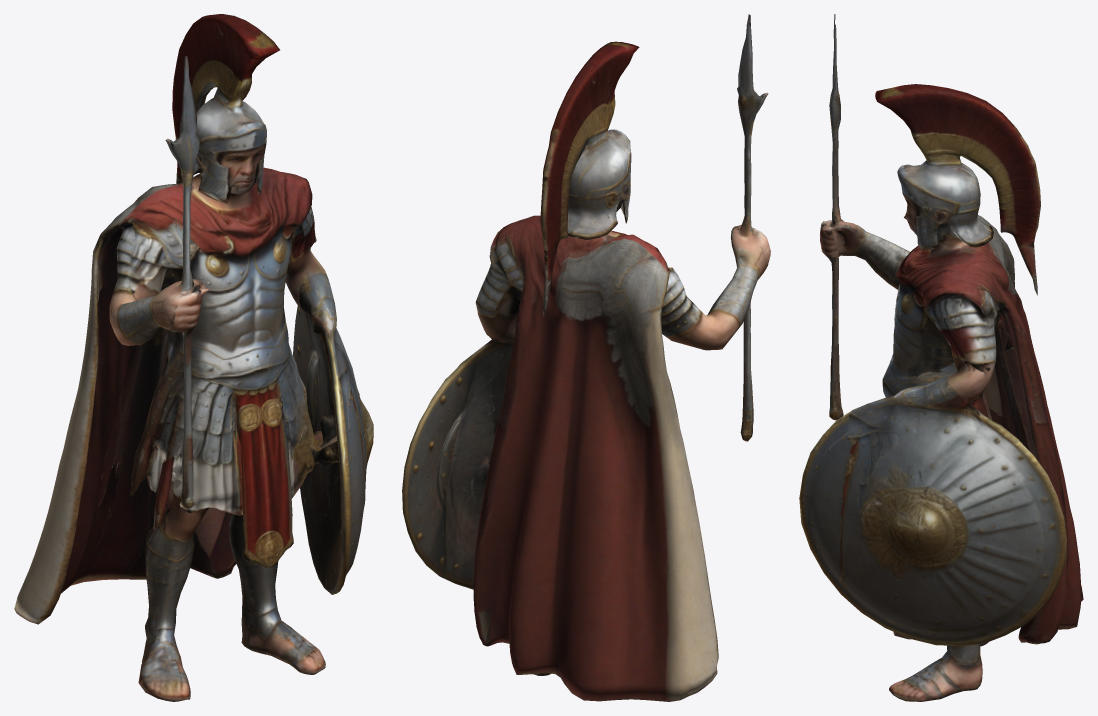
File: centurion.glb
The picture shows the model from 3 angles, left to right: view 1: azimuth 30°, elevation 25°; view 2: azimuth 150°, elevation 25°; view 3: azimuth 270°, elevation 25°; orthographic projection. The views are drawn at different scales.
Visible parts, largest first — view 1: Mesh1_Mesh1.037; view 2: Mesh1_Mesh1.037; view 3: Mesh1_Mesh1.037.
Boxes of the visible parts, box(x1,y1,x2,y2) form: Mesh1_Mesh1.037: box(14, 14, 373, 701); Mesh1_Mesh1.037: box(402, 14, 770, 701); Mesh1_Mesh1.037: box(799, 14, 1083, 701).
Bounding box in the file's own units: 0.934 × 2.01 × 0.8511.
1 material, 1 textured.
